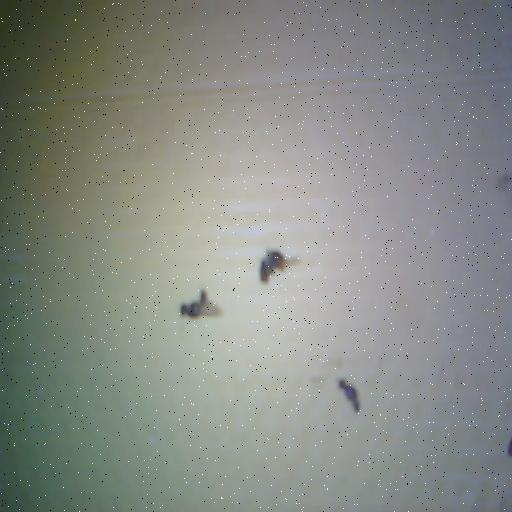Insects: (260, 251, 299, 284), (181, 290, 221, 319), (339, 381, 360, 413)
